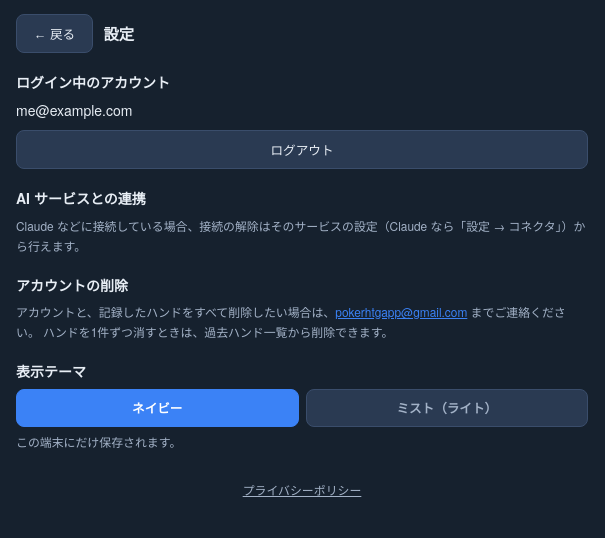
SettingsPage › ログアウトに失敗したら、この画面に残ってエラーを出す
Step 1. Click the button "ログアウト" → {"x": 302, "y": 150}, box [16, 130, 588, 169]
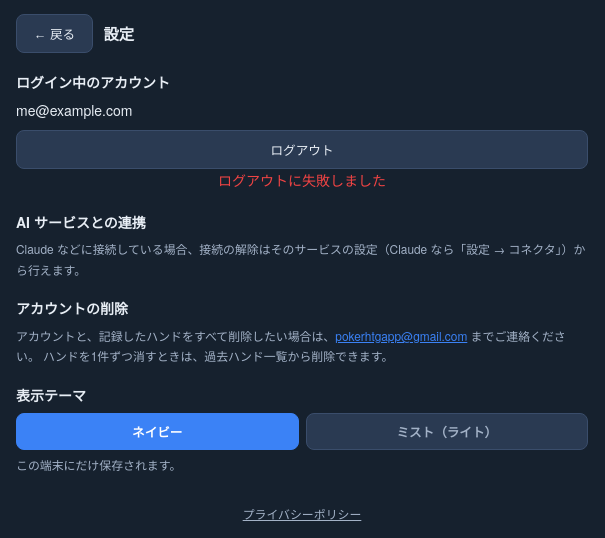
Expected: the text "ログアウトに失敗しました" is shown, [218, 170, 386, 190]
